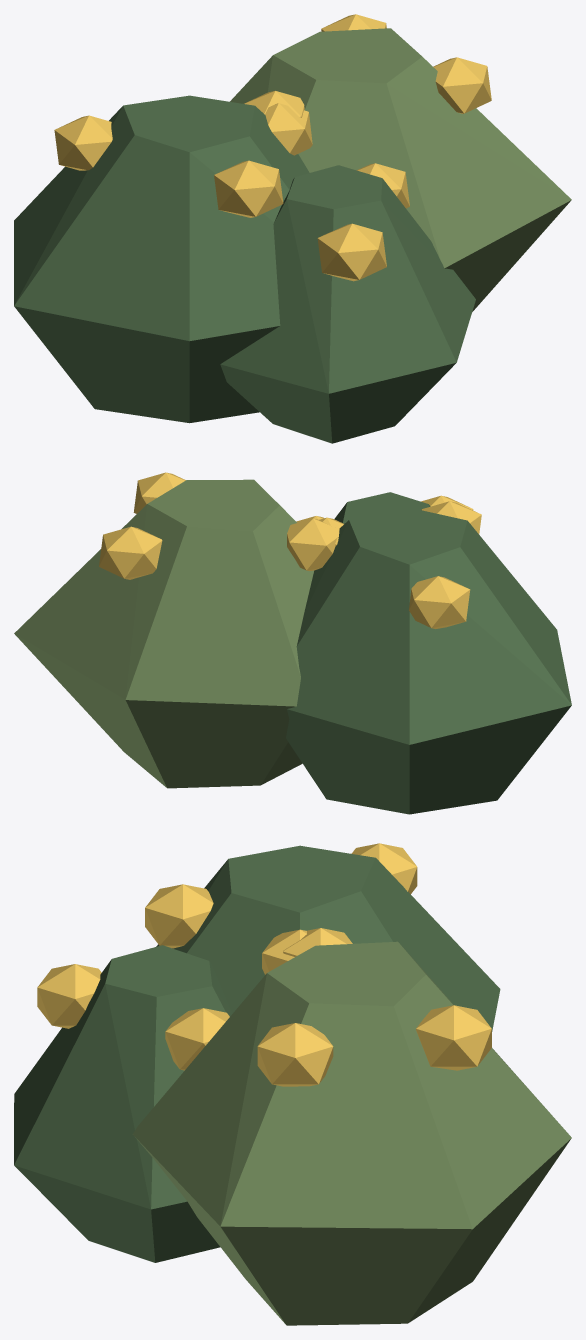
Rendered from gorse_v1530_02.glb.
The picture shows the model from 3 angles, top to bottom: view 1: azimuth 30°, elevation 25°; view 2: azimuth 150°, elevation 25°; view 3: azimuth 270°, elevation 25°; orthographic projection. The views are drawn at different scales.
Parts seen in each view (by area): view 1: gorse_v1530_02; view 2: gorse_v1530_02; view 3: gorse_v1530_02.
Part boxes in pixels (left/top/right/bottom): gorse_v1530_02: left=14, top=14, right=571, bottom=443; gorse_v1530_02: left=14, top=472, right=571, bottom=814; gorse_v1530_02: left=14, top=843, right=571, bottom=1325.
Size of the model in its own units: 0.8574 by 0.4171 by 0.6879.
